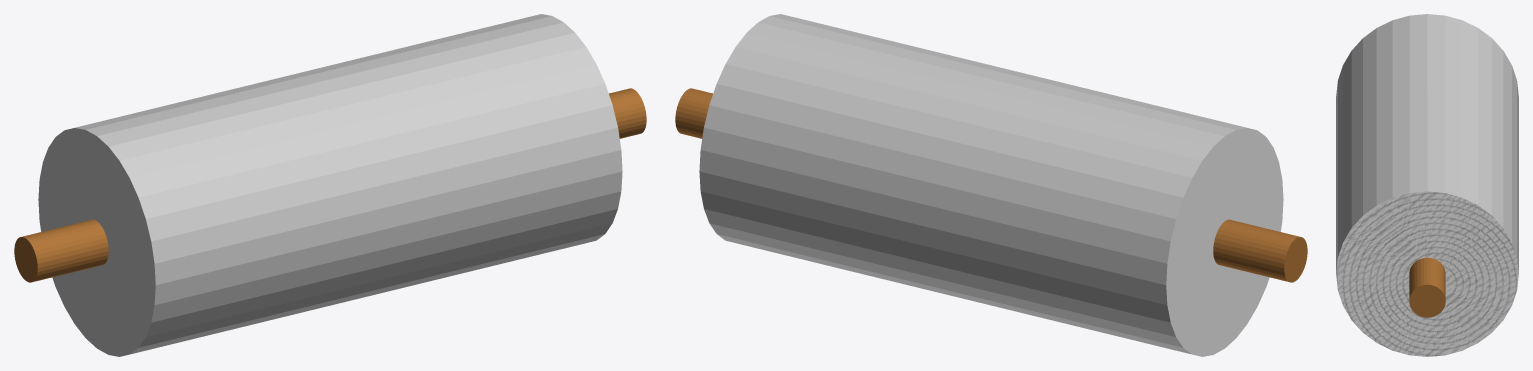
File: denim.fbx
3 views of the same model, side by side, from view 1: azimuth 30°, elevation 25°; view 2: azimuth 150°, elevation 25°; view 3: azimuth 270°, elevation 25° (orthographic). The views are drawn at different scales.
Visible parts, largest first — view 1: 円柱, 円柱.001; view 2: 円柱, 円柱.001; view 3: 円柱, 円柱.001.
Part boxes in pixels (left/top/right/bottom): 円柱: left=38, top=14, right=622, bottom=356; 円柱.001: left=14, top=88, right=646, bottom=282; 円柱: left=699, top=14, right=1283, bottom=356; 円柱.001: left=675, top=88, right=1307, bottom=282; 円柱: left=1336, top=14, right=1518, bottom=356; 円柱.001: left=1409, top=257, right=1445, bottom=317.
Bounding box in the file's own units: 60 × 20 × 20.02.
